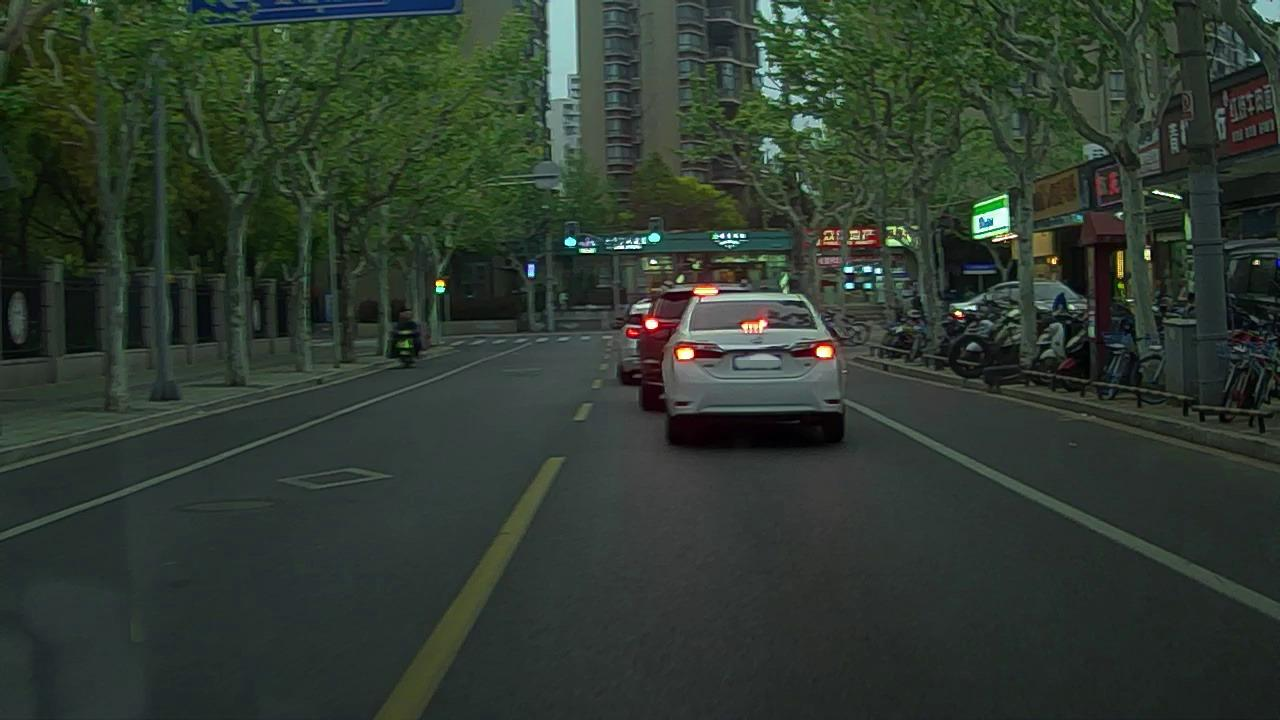traffic_light: (564, 221, 577, 252), (649, 219, 662, 249)
